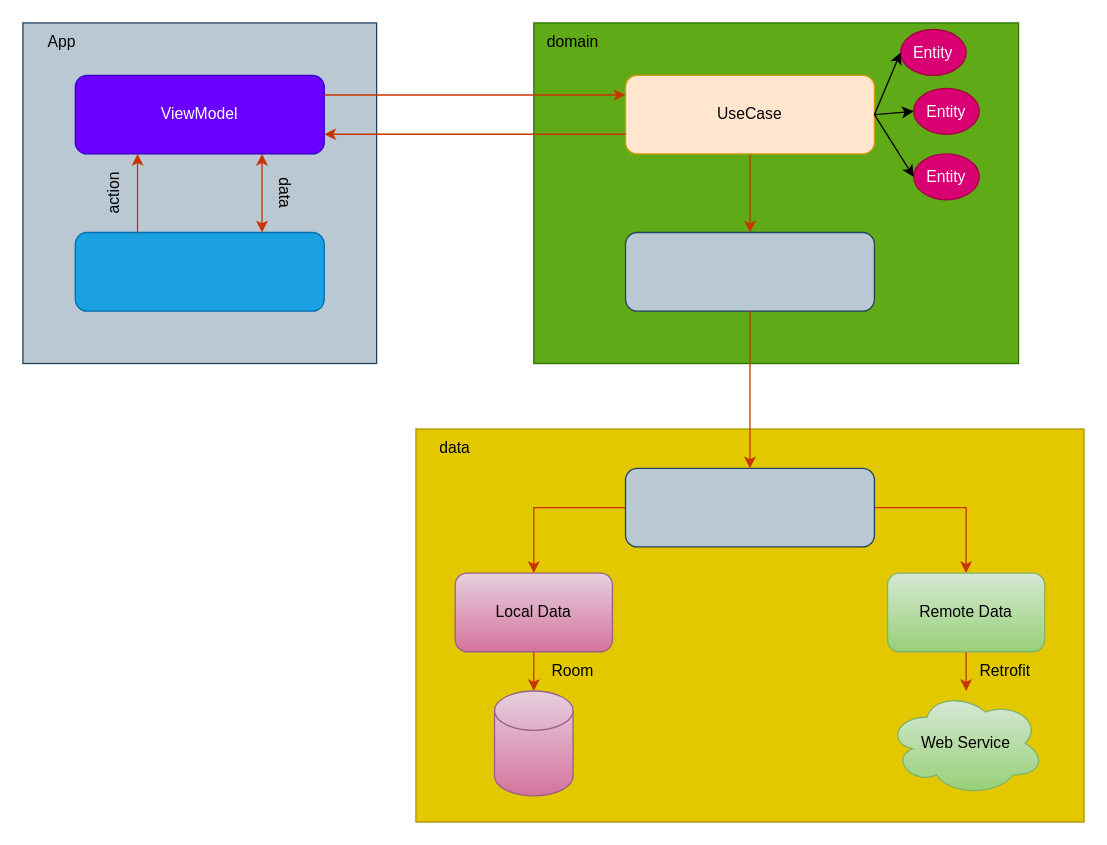
The diagram is 1107 pixels wide and 845 high, and some of its shapes have lost their labels. Each missing label, with the centre of its shape:
Database: pixel 533 743
Repository abstraction: pixel 749 271
Repository Implement: pixel 749 507
UI Screen (Compose): pixel 199 271
